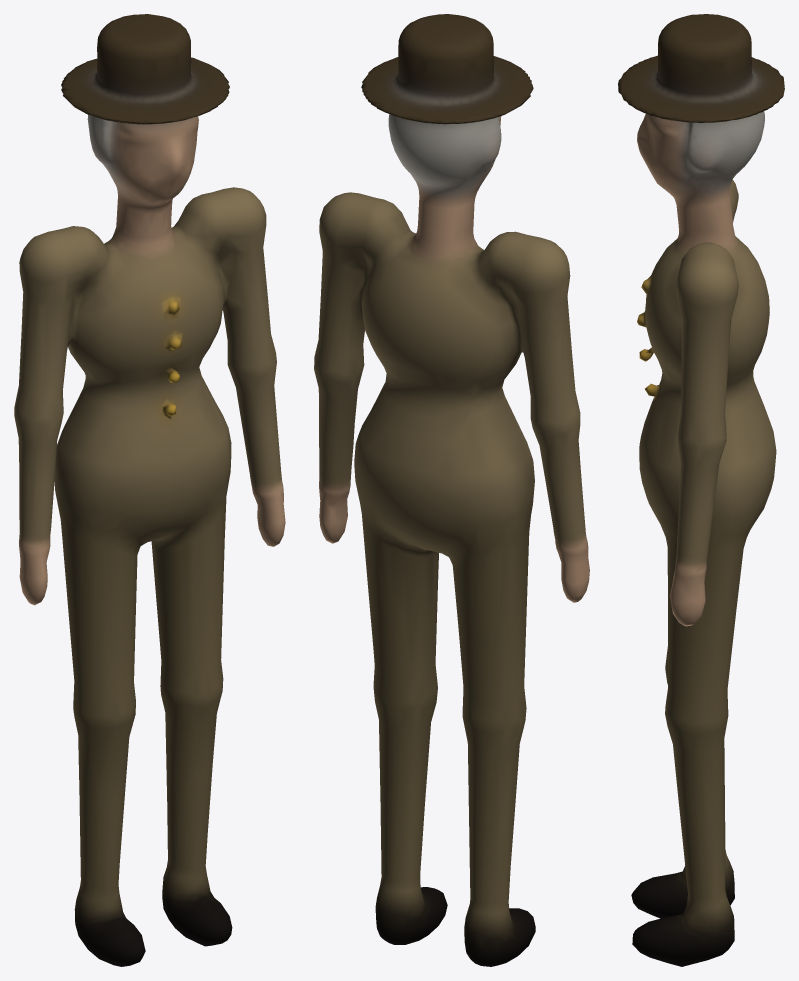
File: lumiere-npc-patron-m3.glb
The picture shows the model from 3 angles, left to right: view 1: azimuth 30°, elevation 25°; view 2: azimuth 150°, elevation 25°; view 3: azimuth 270°, elevation 25°; orthographic projection.
Visible parts, largest first — view 1: lumiere-npc-patron-m3_LOD0; view 2: lumiere-npc-patron-m3_LOD0; view 3: lumiere-npc-patron-m3_LOD0.
Part boxes in pixels (bbox=[...]): lumiere-npc-patron-m3_LOD0: bbox=[14, 14, 285, 966]; lumiere-npc-patron-m3_LOD0: bbox=[314, 14, 589, 966]; lumiere-npc-patron-m3_LOD0: bbox=[618, 14, 784, 966].
Size of what is drawn, in the model's own units: 0.5364 by 1.8 by 0.2984.
